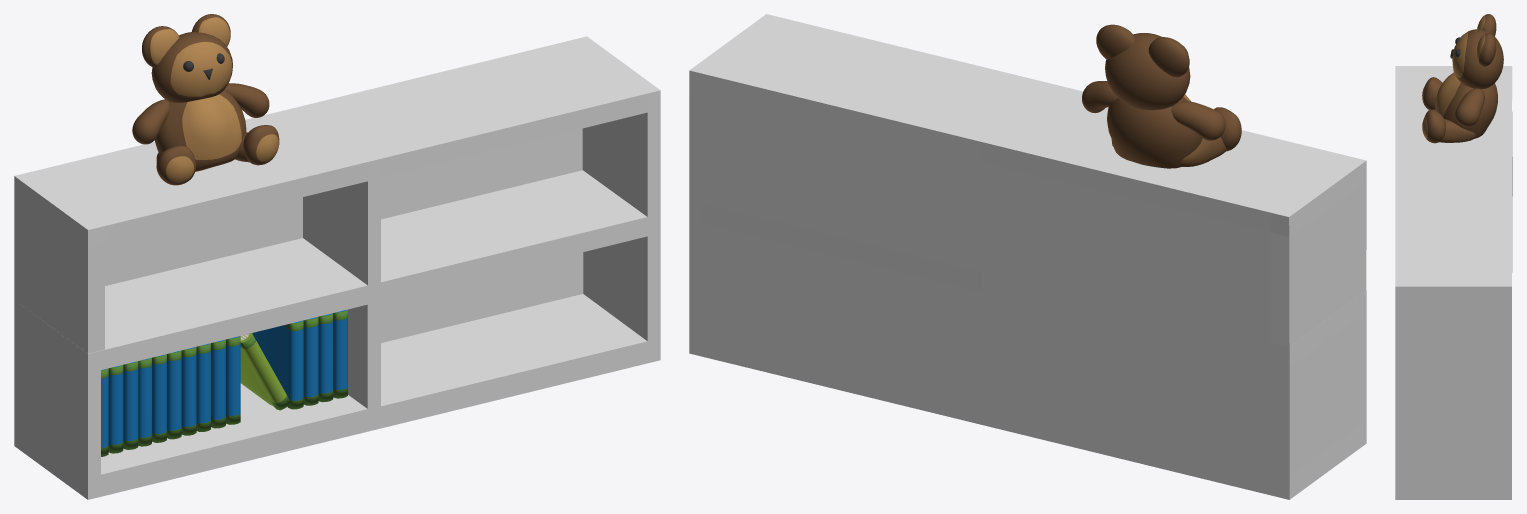
Rendered from shelves_tier5.fbx.
The picture shows the model from 3 angles, left to right: view 1: azimuth 30°, elevation 25°; view 2: azimuth 150°, elevation 25°; view 3: azimuth 270°, elevation 25°; orthographic projection. The views are drawn at different scales.
Parts seen in each view (by area): view 1: Cube.003, Sphere.007, Cube.005, Cube.006, Cube.004, Cube.002, Cube.012, Cube.007, Cube.008, Cube.001, Cube.016, Cube.013 (+5 smaller); view 2: Cube.003, Sphere.007; view 3: Cube.003, Sphere.007.
Boxes of the visible parts, x1,y1,x2,y2 form: Cube.003: (14,36,660,499); Sphere.007: (132,14,279,185); Cube.005: (252,320,303,409); Cube.006: (240,333,290,410); Cube.004: (303,316,318,405); Cube.002: (318,313,333,402); Cube.012: (181,346,196,435); Cube.007: (123,361,138,449); Cube.008: (108,365,123,453); Cube.001: (333,309,347,398); Cube.016: (211,339,225,428); Cube.013: (167,350,181,439); Cube.003: (689,14,1366,499); Sphere.007: (1082,24,1241,168); Cube.003: (1395,66,1512,499); Sphere.007: (1422,14,1503,143).
Bounding box in the file's own units: 208 × 138 × 46.63.
